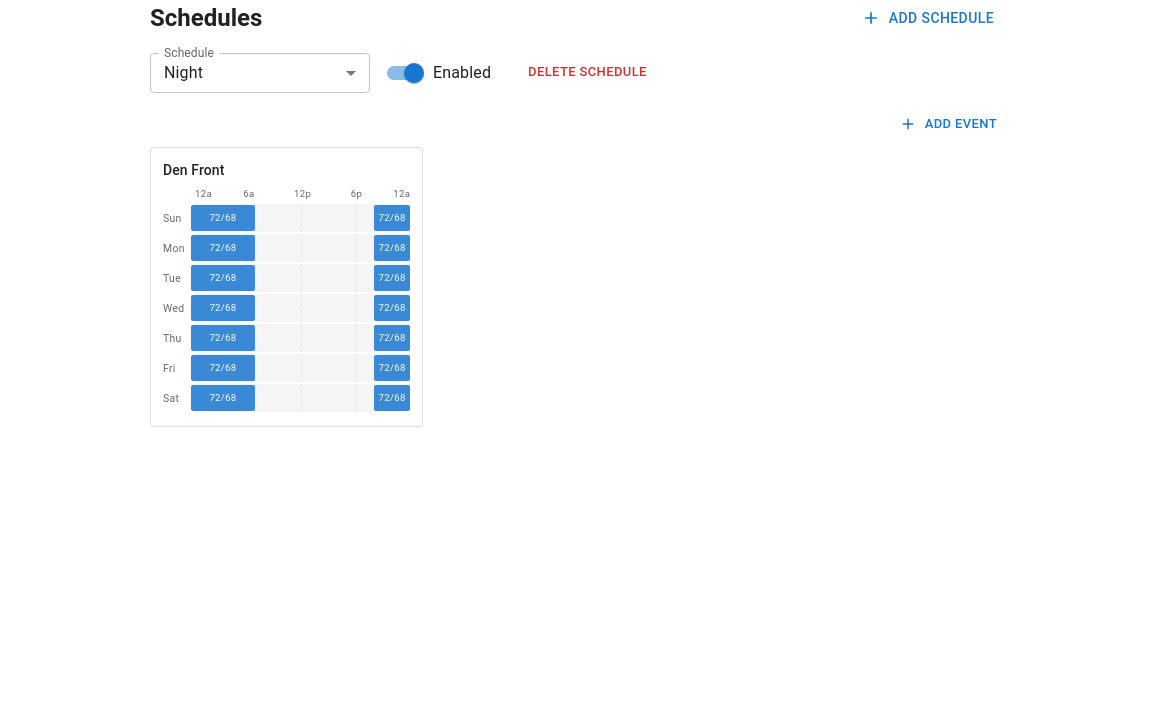
Test: SchedulesPage › creates a new schedule and selects it
Expected: the text "Sun" is shown, [163,212,182,224]
Click the button "Add schedule" at (929, 18), box [857,0,1002,36]
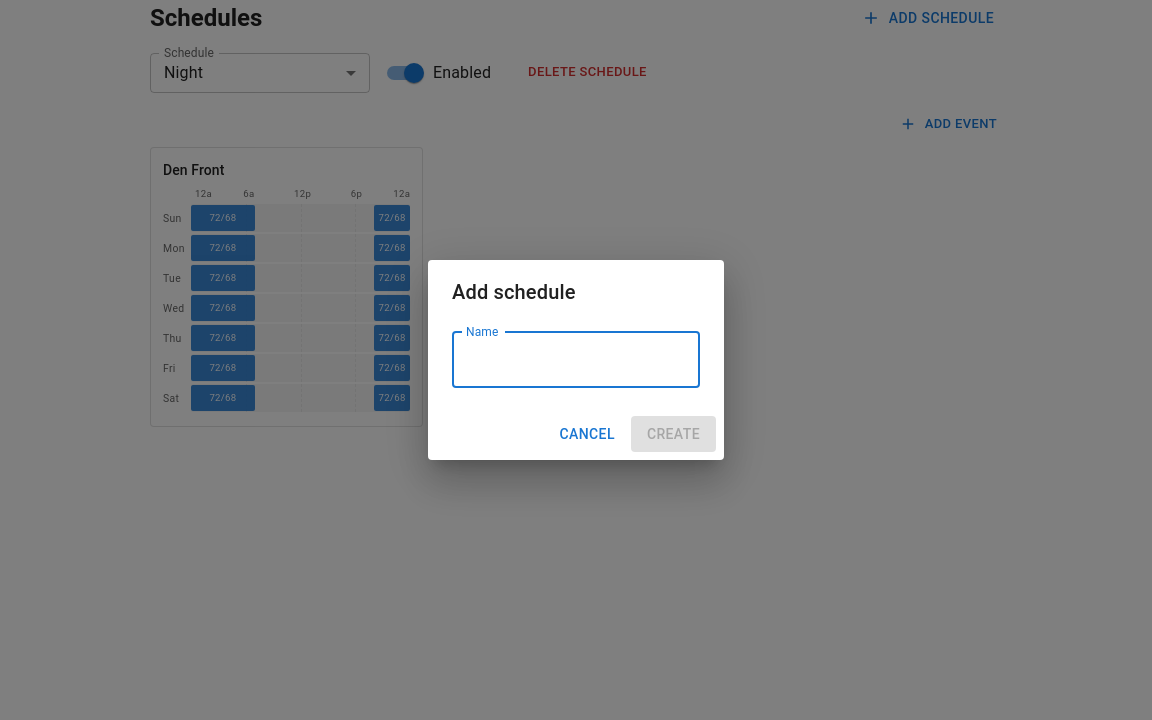
Type "Away" into the field labelled "Name" at (576, 360), box [452,332,700,388]
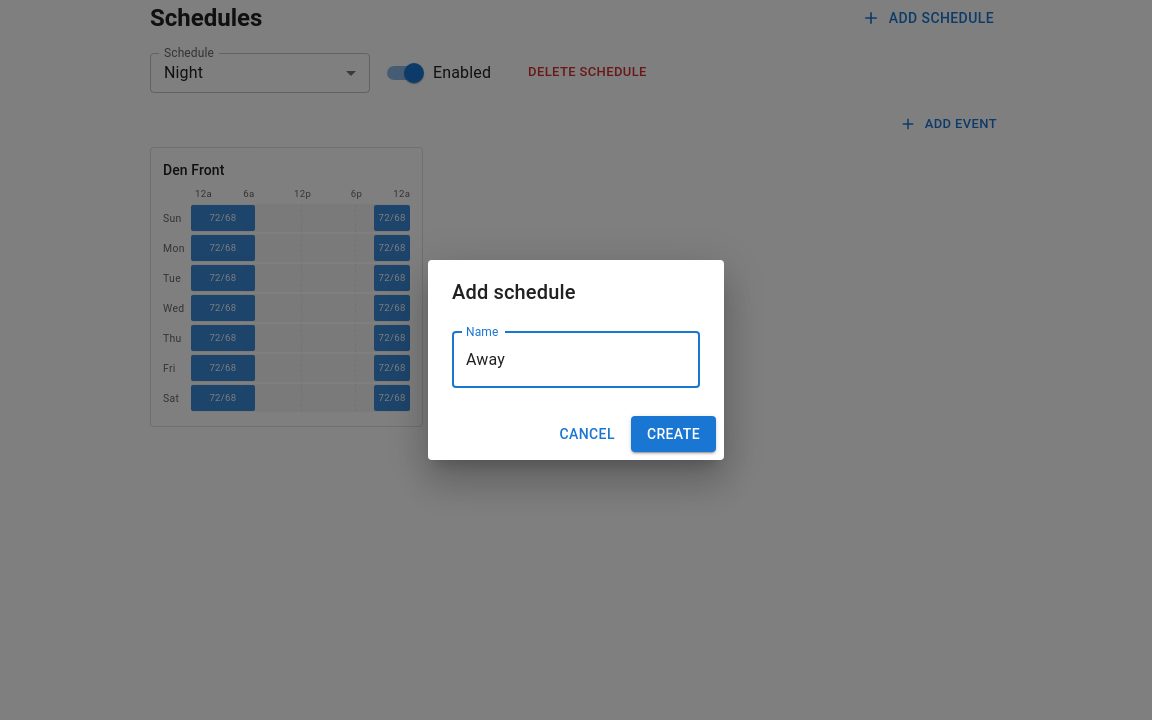
Click the button "Create" at (673, 434), box [631,416,716,452]
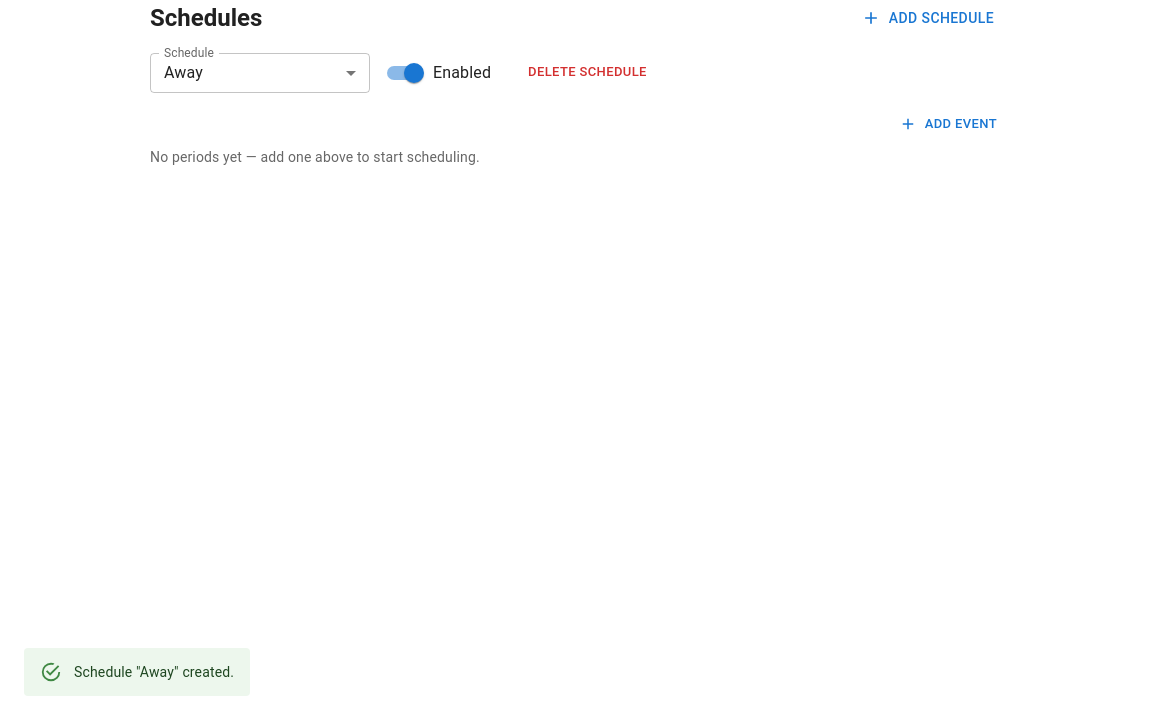
Now the dropdown named "Schedule" reads "Away", box [164,63,203,82]
